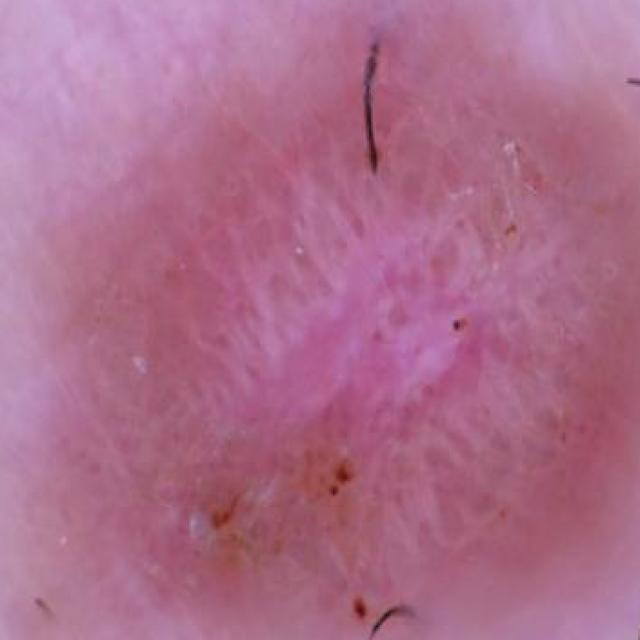DF: (7, 9, 640, 640)
